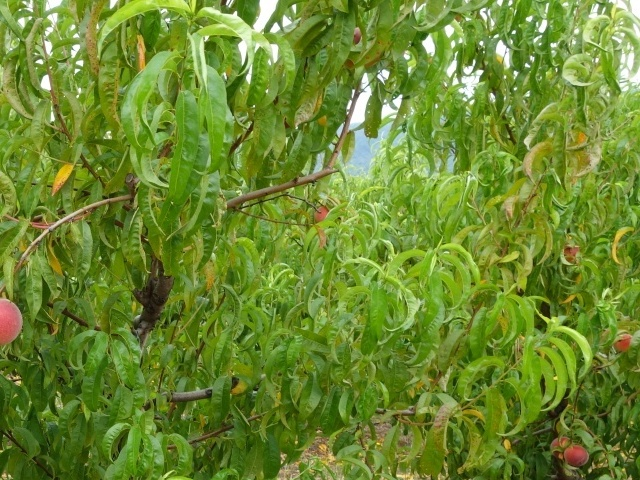peach: (1, 294, 28, 349), (563, 441, 592, 471), (546, 432, 577, 460), (611, 329, 636, 353), (309, 201, 331, 227)
